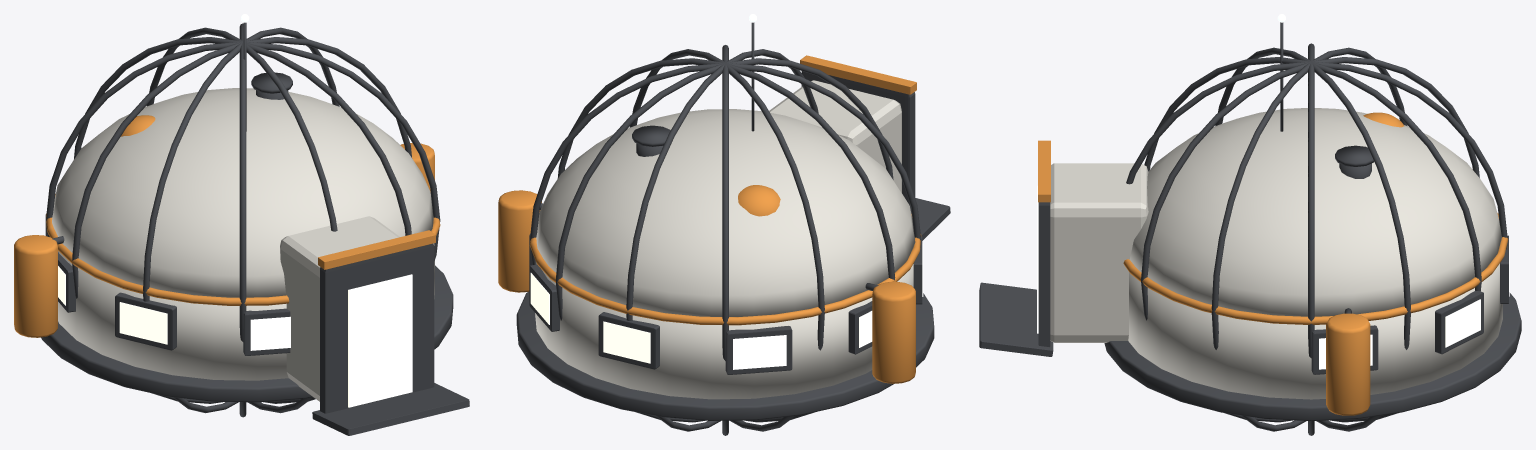
File: hab.glb
3 views of the same model, side by side, from view 1: azimuth 30°, elevation 25°; view 2: azimuth 150°, elevation 25°; view 3: azimuth 270°, elevation 25° (orthographic).
Visible parts, largest first — view 1: hab; view 2: hab; view 3: hab.
Part boxes in pixels (x1,y1,x2,y2): hab: (14, 14, 469, 435); hab: (498, 14, 950, 435); hab: (979, 14, 1521, 435).
Bounding box in the file's own units: 6.46 × 5.94 × 7.35.
